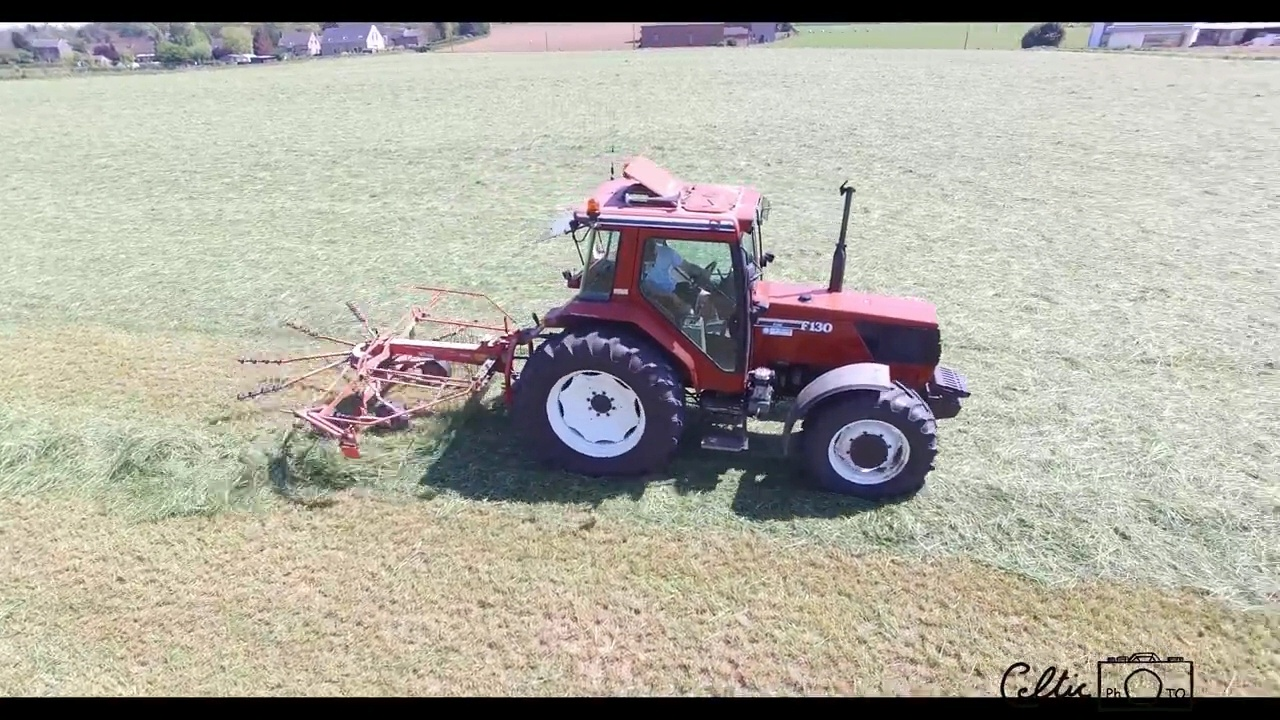traktor: (505, 150, 968, 505)
